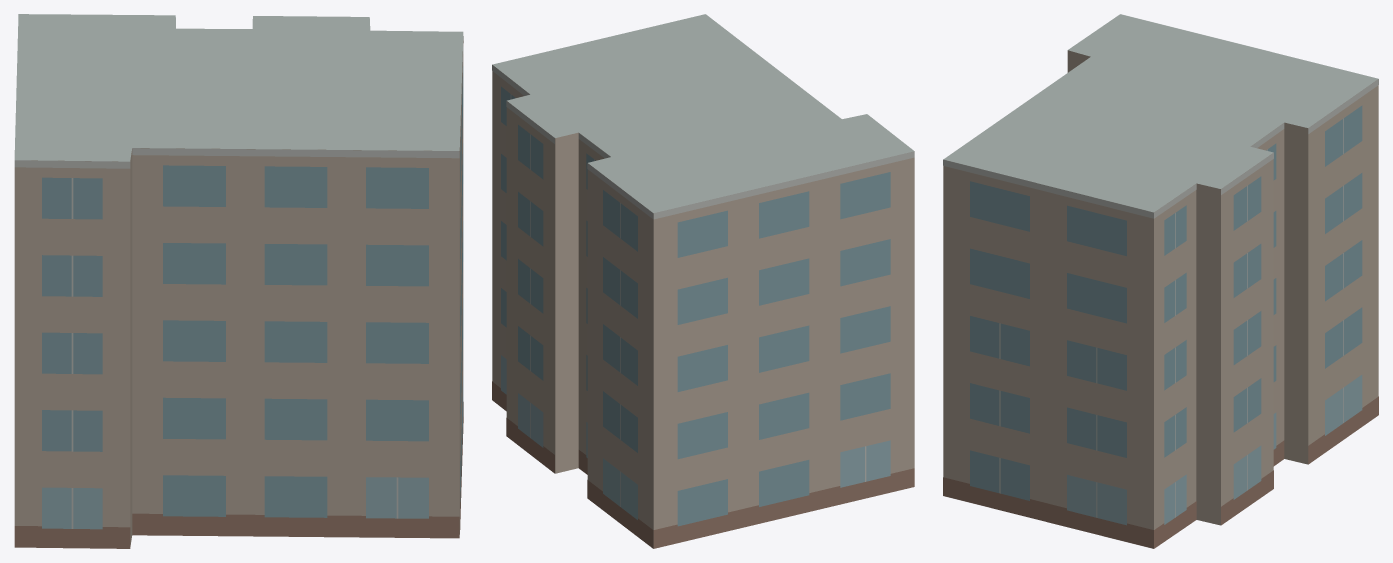
File: survey-upis-32674050.glb
3 renders of one model, left to right at view 1: azimuth 30°, elevation 25°; view 2: azimuth 150°, elevation 25°; view 3: azimuth 270°, elevation 25°, orthographic. The views are drawn at different scales.
Parts seen in each view (by area): view 1: survey-upis-32674050.tmp; view 2: survey-upis-32674050.tmp; view 3: survey-upis-32674050.tmp.
Part boxes in pixels (box(x1,y1,x2,y2)): survey-upis-32674050.tmp: box(14, 14, 463, 548); survey-upis-32674050.tmp: box(492, 14, 914, 548); survey-upis-32674050.tmp: box(943, 14, 1378, 548).
Bounding box in the file's own units: 16.65 × 13.15 × 15.44.
